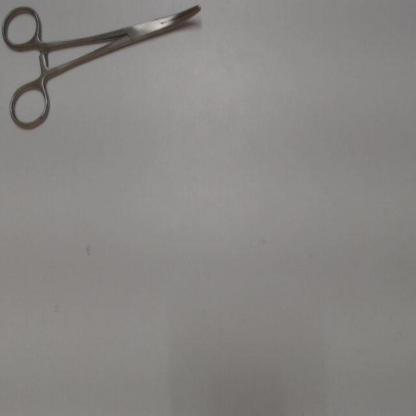Crile Artery Forceps: (1, 1, 209, 135)
